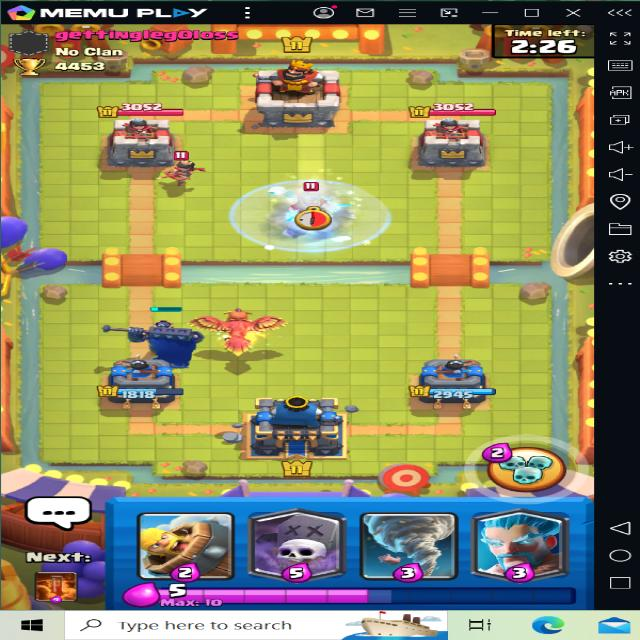Icewizard: (275, 175, 344, 230)
Princess: (156, 146, 205, 192)
